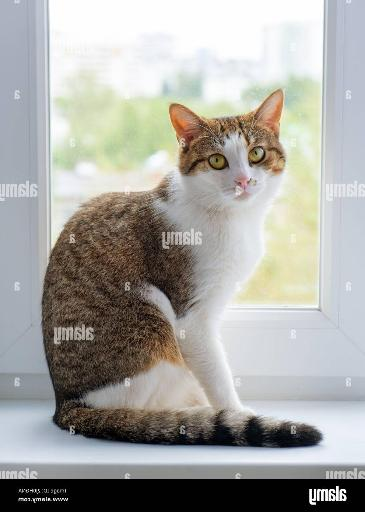cat_sitting: (42, 89, 323, 447)
